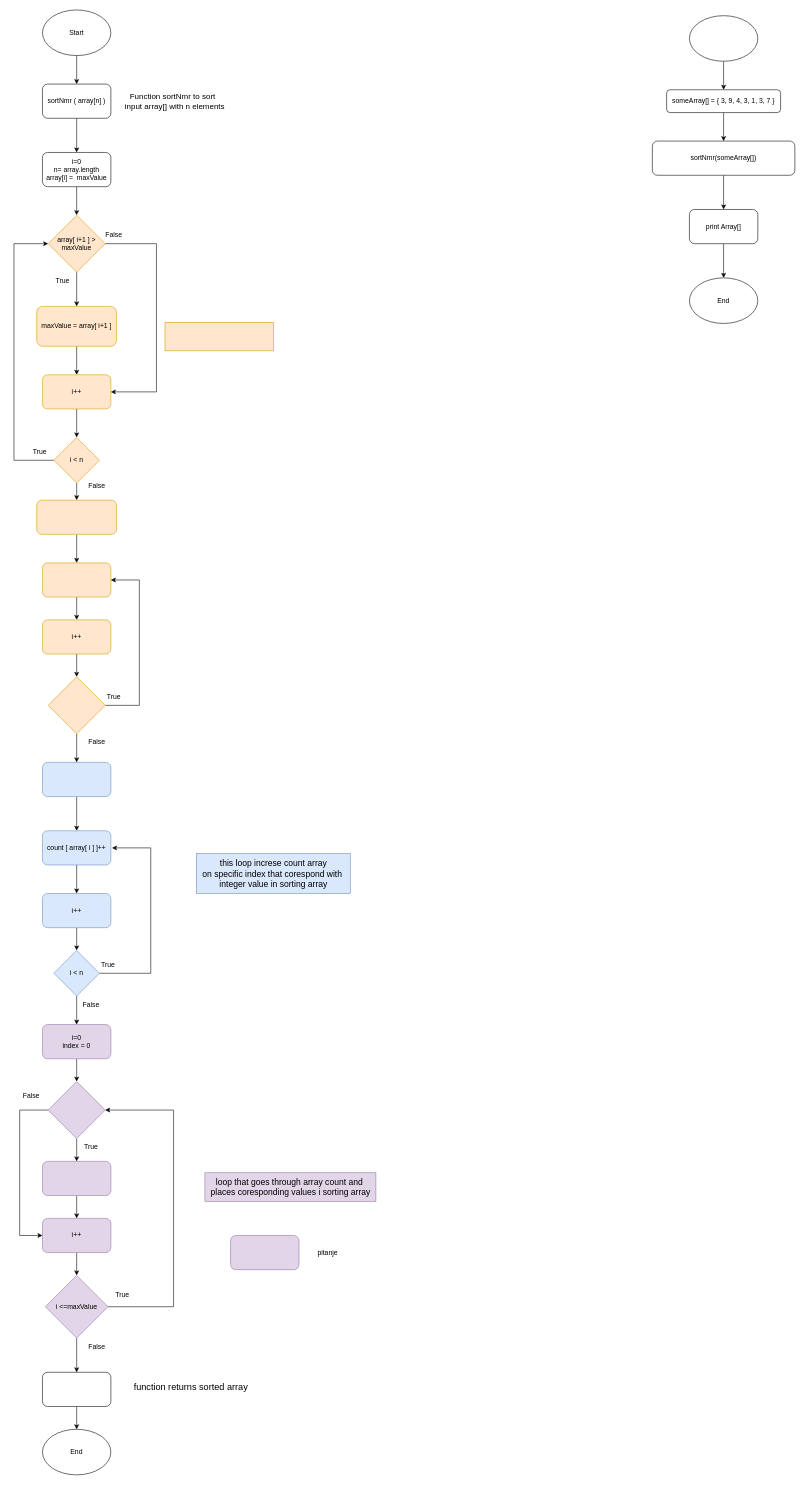
This 805x1485 diagram has some shape labels left out. Each missing label, with the centre of its shape:
"array[ index ] = i index++ count[ i ]--" goes at (x=264, y=1252).
"array[ index++ ] = i count[ i ]--" goes at (x=76, y=1178).
"count [ i ] = 0" goes at (x=76, y=579).
"count[ i ] > 0" goes at (x=76, y=1110).
"i <= maxValue" goes at (x=76, y=705).
"i=0" goes at (x=76, y=779).
"i=0 count[ maxValue + 1 ]" goes at (x=76, y=517).
"Main" goes at (x=723, y=38).
"return array[]" goes at (x=76, y=1389).
"we use this loop to find maximum value in array" goes at (x=218, y=336).
